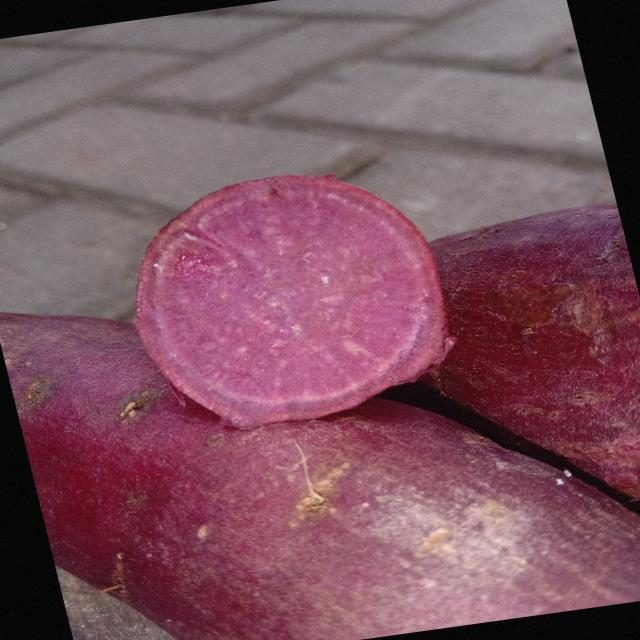Healthy Sweet Potato: (135, 175, 453, 429)
